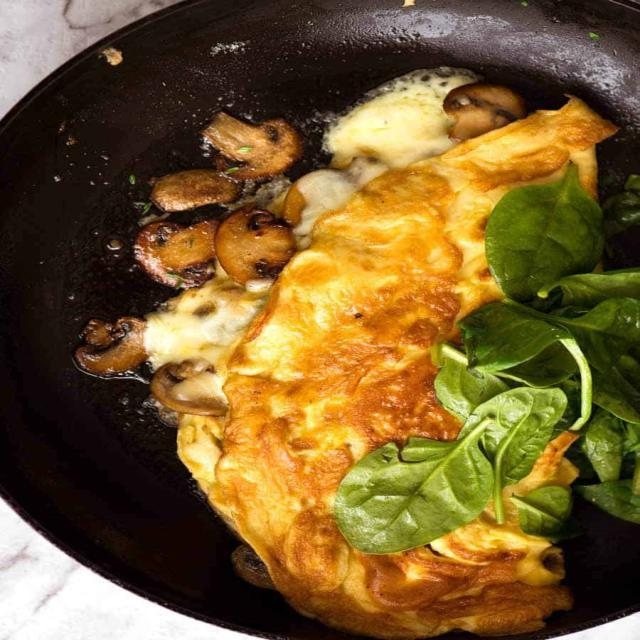telur_ayam_dadar: (74, 66, 631, 640)
